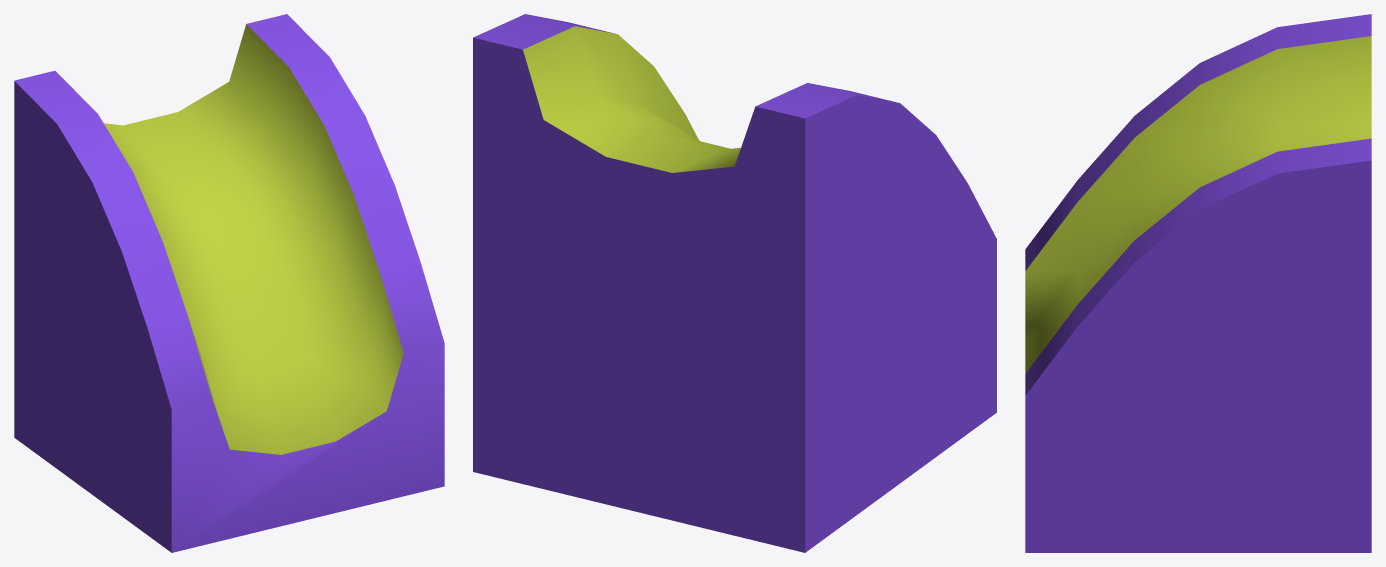
File: rampEnd_solid_D-col.dae
3 views of the same model, side by side, from view 1: azimuth 30°, elevation 25°; view 2: azimuth 150°, elevation 25°; view 3: azimuth 270°, elevation 25° (orthographic). The views are drawn at different scales.
Parts seen in each view (by area): view 1: rampEnd_solid_D-col; view 2: rampEnd_solid_D-col; view 3: rampEnd_solid_D-col.
Part boxes in pixels (x1,y1,x2,y2): rampEnd_solid_D-col: [14, 14, 444, 552]; rampEnd_solid_D-col: [473, 14, 996, 552]; rampEnd_solid_D-col: [1025, 14, 1371, 552].
Bounding box in the file's own units: 1 × 1 × 1.25.
